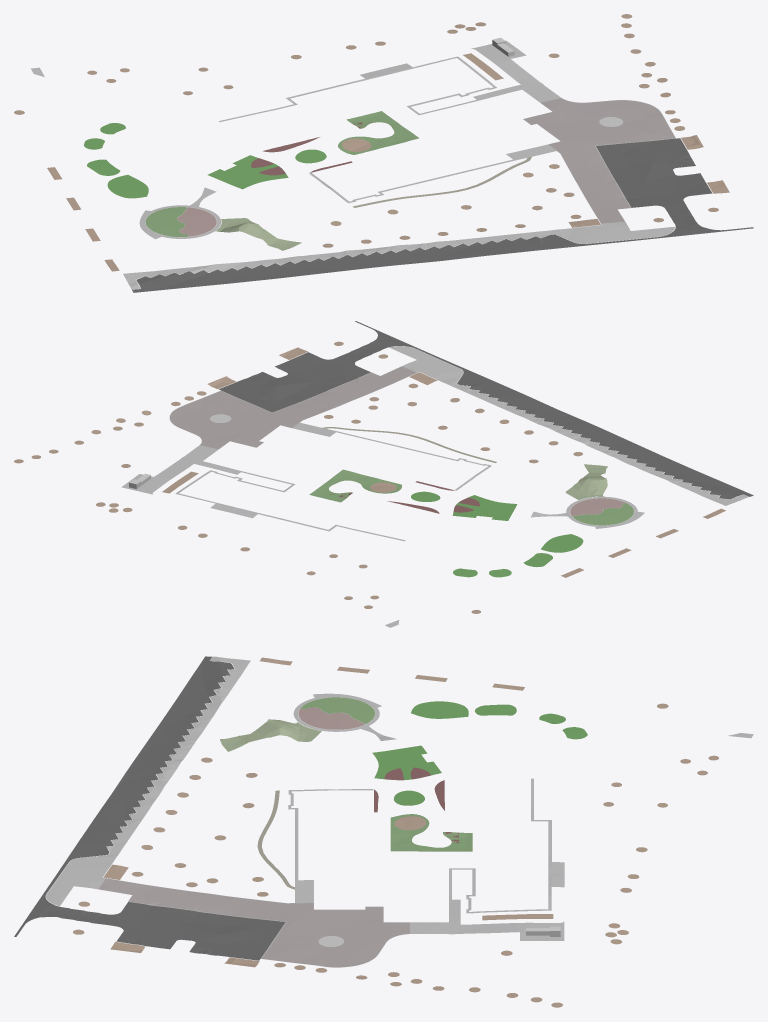
The picture shows the model from 3 angles, top to bottom: view 1: azimuth 30°, elevation 25°; view 2: azimuth 150°, elevation 25°; view 3: azimuth 270°, elevation 25°; orthographic projection. The views are drawn at different scales.
Visible parts, largest first — view 1: 11feLW8gzCf8a8r06KnAhs, 1PXVmudfb6AgXCjzHWLAPX, 0CHTaIFJf7KBMr2rwdF90x, 2wkCpUP_TCLviNcPAi9NYI, 1PXVmudfb6AgXCjzHWLAoI, 1VWSFMC8r0f80xKEm68Qfv, 2wkCpUP_TCLviNcPAi9M1R, 1oISmLqpv8tv8_E97nQGkd, 2wkCpUP_TCLviNcPAi9MR_, 0rBDzNZNHA29QjT3OakEsf, 1PXVmudfb6AgXCjzHWLAvw; view 2: 11feLW8gzCf8a8r06KnAhs, 1PXVmudfb6AgXCjzHWLAPX, 0CHTaIFJf7KBMr2rwdF90x, 1PXVmudfb6AgXCjzHWLAoI, 1VWSFMC8r0f80xKEm68Qfv, 2wkCpUP_TCLviNcPAi9NYI, 2wkCpUP_TCLviNcPAi9M1R, 1oISmLqpv8tv8_E97nQGkd, 2wkCpUP_TCLviNcPAi9MR_, 0rBDzNZNHA29QjT3OakEsf; view 3: 11feLW8gzCf8a8r06KnAhs, 0CHTaIFJf7KBMr2rwdF90x, 1PXVmudfb6AgXCjzHWLAPX, 2wkCpUP_TCLviNcPAi9NYI, 1VWSFMC8r0f80xKEm68Qfv, 1PXVmudfb6AgXCjzHWLAoI, 2wkCpUP_TCLviNcPAi9M1R, 1oISmLqpv8tv8_E97nQGkd, 2wkCpUP_TCLviNcPAi9MR_, 0rBDzNZNHA29QjT3OakEsf.
Boxes of the visible parts, bbox=[...] form: 11feLW8gzCf8a8r06KnAhs: bbox=[132, 138, 753, 292]; 1PXVmudfb6AgXCjzHWLAPX: bbox=[123, 40, 675, 289]; 0CHTaIFJf7KBMr2rwdF90x: bbox=[523, 98, 675, 223]; 2wkCpUP_TCLviNcPAi9NYI: bbox=[208, 155, 288, 189]; 1PXVmudfb6AgXCjzHWLAoI: bbox=[338, 111, 418, 154]; 1VWSFMC8r0f80xKEm68Qfv: bbox=[215, 218, 301, 250]; 2wkCpUP_TCLviNcPAi9M1R: bbox=[145, 207, 188, 236]; 1oISmLqpv8tv8_E97nQGkd: bbox=[177, 207, 216, 236]; 2wkCpUP_TCLviNcPAi9MR_: bbox=[139, 187, 220, 239]; 0rBDzNZNHA29QjT3OakEsf: bbox=[107, 175, 148, 198]; 1PXVmudfb6AgXCjzHWLAvw: bbox=[352, 157, 531, 207]; 11feLW8gzCf8a8r06KnAhs: bbox=[219, 321, 753, 499]; 1PXVmudfb6AgXCjzHWLAPX: bbox=[121, 346, 748, 541]; 0CHTaIFJf7KBMr2rwdF90x: bbox=[170, 366, 416, 449]; 1PXVmudfb6AgXCjzHWLAoI: bbox=[309, 469, 401, 502]; 1VWSFMC8r0f80xKEm68Qfv: bbox=[565, 464, 607, 499]; 2wkCpUP_TCLviNcPAi9NYI: bbox=[452, 495, 517, 520]; 2wkCpUP_TCLviNcPAi9M1R: bbox=[572, 503, 633, 525]; 1oISmLqpv8tv8_E97nQGkd: bbox=[570, 498, 625, 516]; 2wkCpUP_TCLviNcPAi9MR_: bbox=[530, 496, 644, 528]; 0rBDzNZNHA29QjT3OakEsf: bbox=[541, 534, 583, 552]; 11feLW8gzCf8a8r06KnAhs: bbox=[14, 656, 285, 960]; 0CHTaIFJf7KBMr2rwdF90x: bbox=[98, 878, 409, 967]; 1PXVmudfb6AgXCjzHWLAPX: bbox=[46, 656, 564, 967]; 2wkCpUP_TCLviNcPAi9NYI: bbox=[372, 745, 441, 780]; 1VWSFMC8r0f80xKEm68Qfv: bbox=[220, 719, 321, 751]; 1PXVmudfb6AgXCjzHWLAoI: bbox=[390, 814, 472, 851]; 2wkCpUP_TCLviNcPAi9M1R: bbox=[300, 697, 375, 723]; 1oISmLqpv8tv8_E97nQGkd: bbox=[298, 707, 365, 729]; 2wkCpUP_TCLviNcPAi9MR_: bbox=[293, 693, 396, 740]; 0rBDzNZNHA29QjT3OakEsf: bbox=[411, 701, 468, 718].
Bounding box in the file's own units: 154 × 2.4 × 138.
